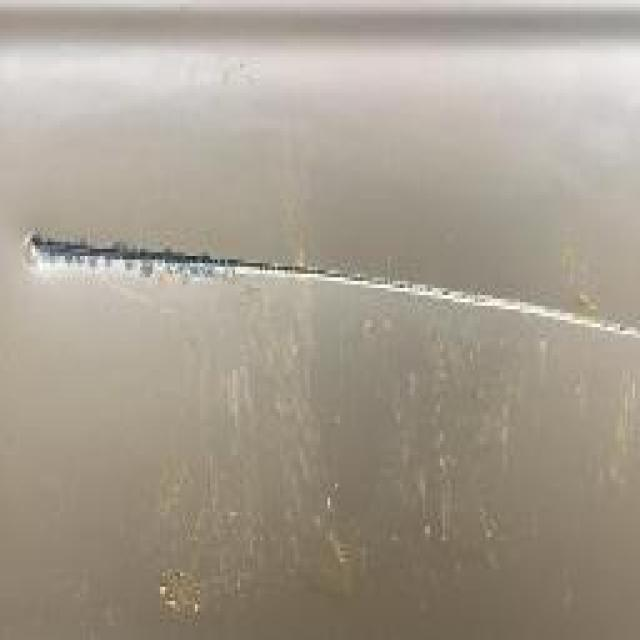Door: (8, 213, 640, 508)
